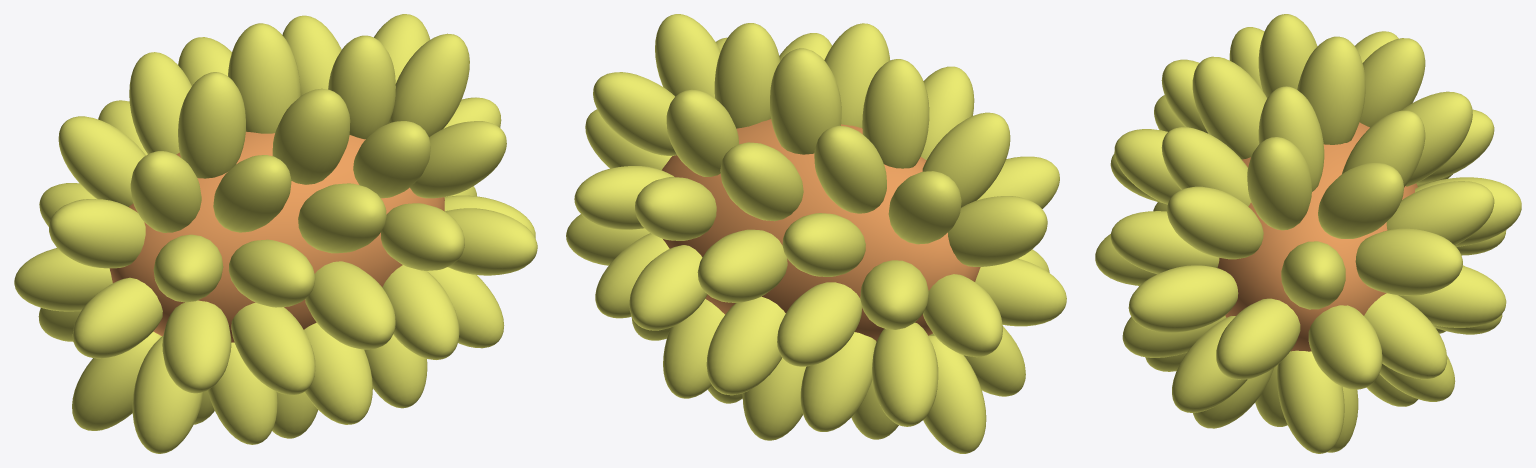
File: YELLOWBACTERIA (1).fbx
The picture shows the model from 3 angles, left to right: view 1: azimuth 30°, elevation 25°; view 2: azimuth 150°, elevation 25°; view 3: azimuth 270°, elevation 25°; orthographic projection.
Parts seen in each view (by area): view 1: polySurface27; view 2: polySurface27; view 3: polySurface27.
Part boxes in pixels (left/top/right/bottom): polySurface27: left=14, top=14, right=537, bottom=453; polySurface27: left=566, top=14, right=1066, bottom=453; polySurface27: left=1095, top=14, right=1521, bottom=453.
Bounding box in the file's own units: 15.25 × 12.48 × 12.49.
